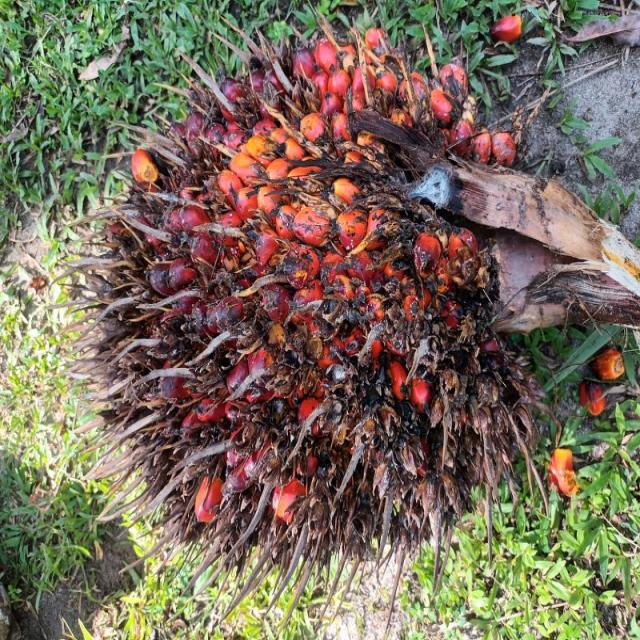fraksi 1: (38, 57, 460, 640)
